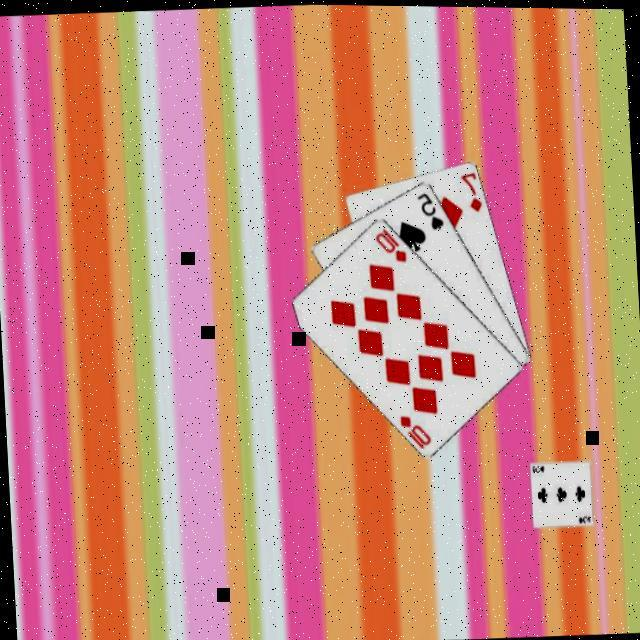10D: (372, 224, 410, 266), (398, 412, 436, 454)
5S: (415, 189, 448, 234)
7D: (458, 170, 486, 216)
